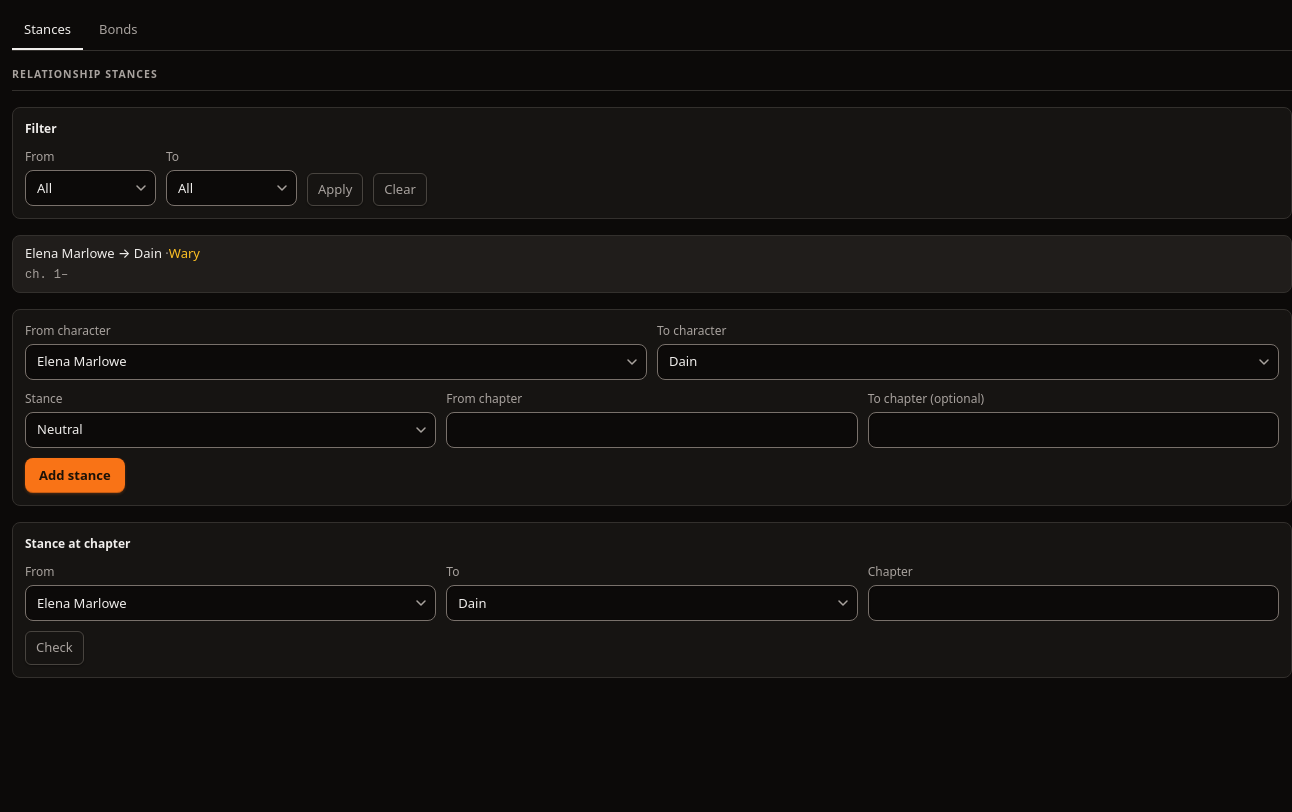
RelationshipPanel › switches to the bonds tab
This screenshot has width=1292, height=812.
Click the tab with test id "relationship-tab-bonds": [118, 31] box top-left (87, 12), bottom-right (150, 50)
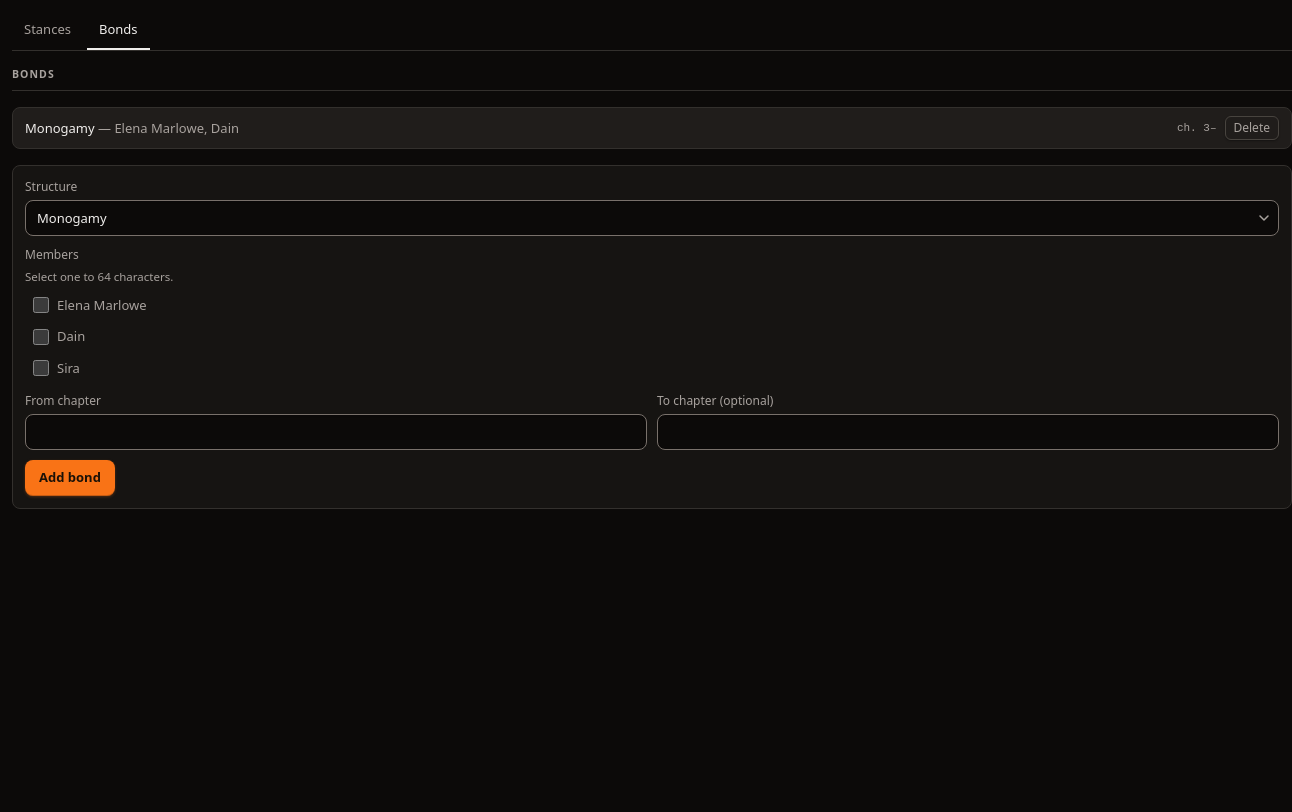
Result: the element with test id "bonds" is shown at top-left (12, 66), bottom-right (1291, 508)
Result: the list with test id "bonds-list" shows "Elena Marlowe" at top-left (25, 116), bottom-right (1169, 140)
